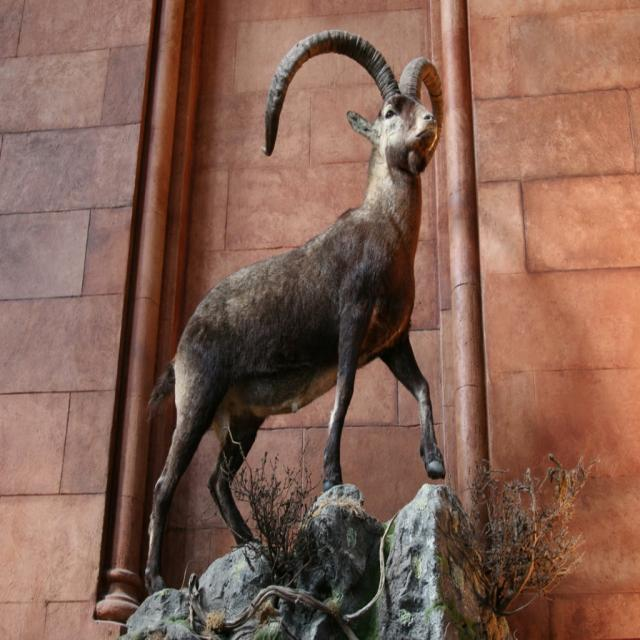Goat: (143, 27, 448, 595)
